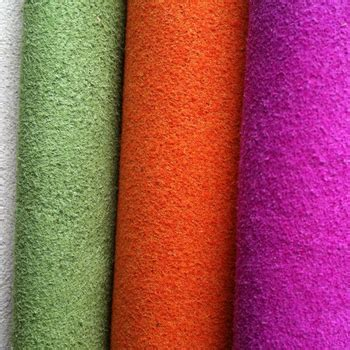gamuza: (1, 1, 350, 350)
